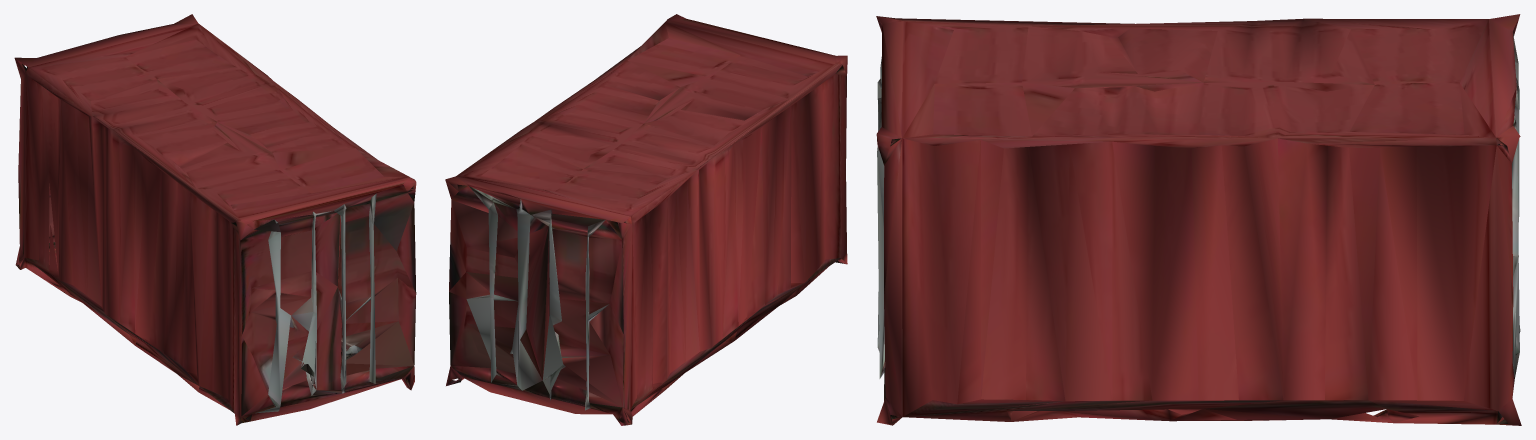
The model's file is container.glb.
3 views of the same model, side by side, from view 1: azimuth 30°, elevation 25°; view 2: azimuth 150°, elevation 25°; view 3: azimuth 270°, elevation 25° (orthographic). The views are drawn at different scales.
Visible parts, largest first — view 1: tripo_node_64ab02dd-8137-4b7d-b901-ad04425aff97; view 2: tripo_node_64ab02dd-8137-4b7d-b901-ad04425aff97; view 3: tripo_node_64ab02dd-8137-4b7d-b901-ad04425aff97.
Boxes of the visible parts, x1=… form: tripo_node_64ab02dd-8137-4b7d-b901-ad04425aff97: x1=14, y1=14, x2=416, y2=425; tripo_node_64ab02dd-8137-4b7d-b901-ad04425aff97: x1=445, y1=14, x2=847, y2=425; tripo_node_64ab02dd-8137-4b7d-b901-ad04425aff97: x1=876, y1=14, x2=1521, y2=425.
Size of the model in its own units: 0.9056 by 1 by 1.98.
1 material, 1 textured.
